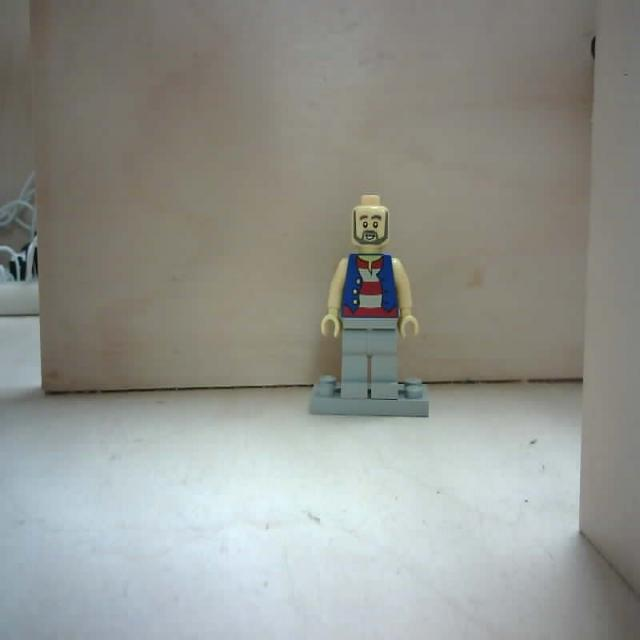Lego-People: (307, 194, 430, 426)
